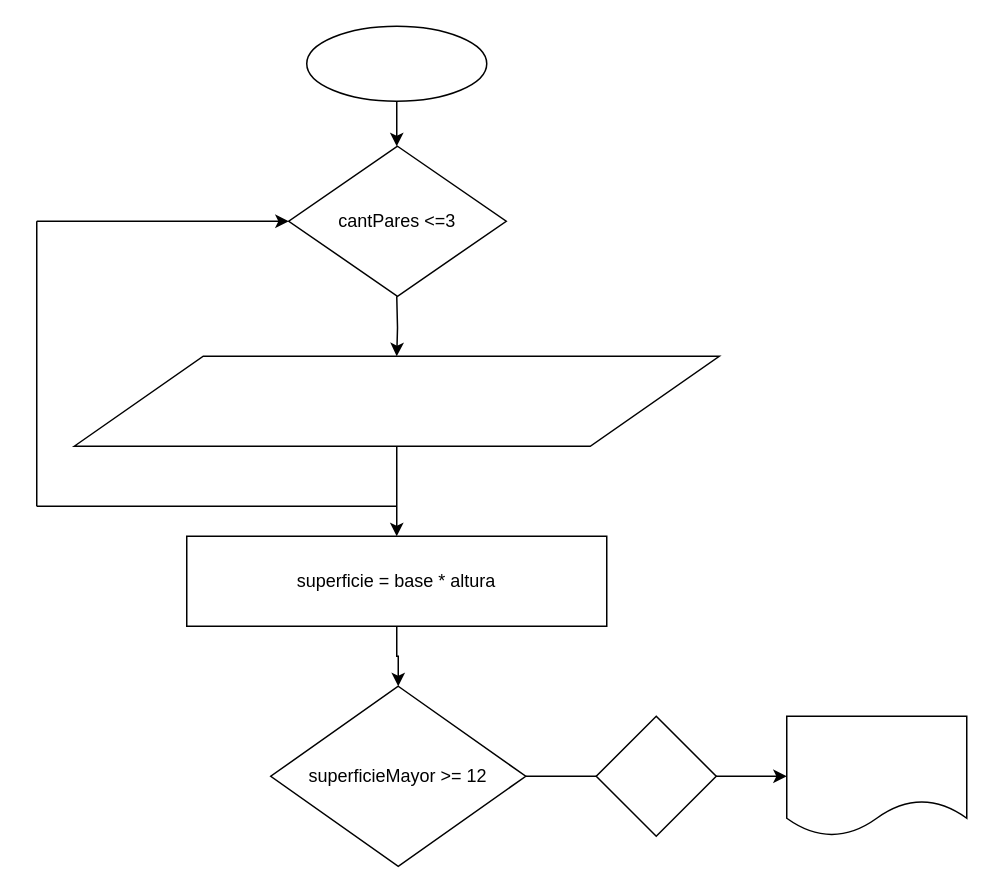
The diagram is 993 pixels wide and 893 high, and some of its shapes have lost their labels. The box of each missing label's shape, as (x1, y1, x2, y2) in pixels:
base, altura: (73, 355, 719, 446)
Inicio: (305, 25, 487, 101)
